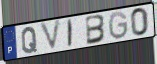0: (130, 7, 151, 38)
B: (85, 13, 107, 46)
G: (107, 10, 129, 41)
I: (67, 18, 74, 49)
Q: (20, 26, 38, 55)
V: (39, 18, 64, 53)
